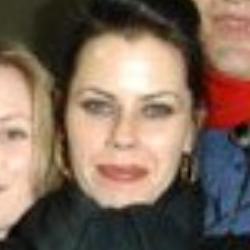face: (30, 6, 221, 230), (1, 37, 70, 237)
